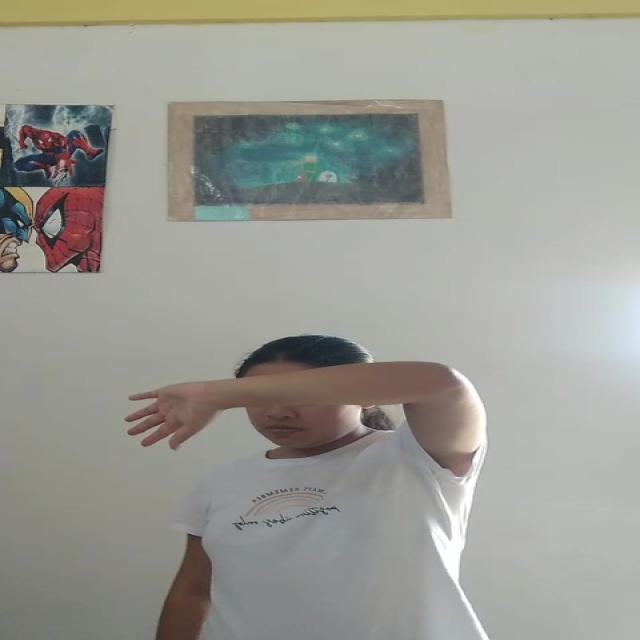7_mano_rostro: (137, 363, 399, 426)
